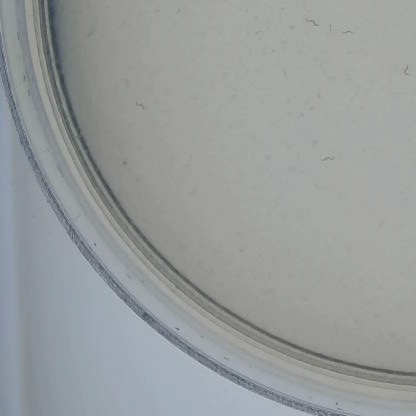worm: (303, 14, 320, 31), (399, 62, 412, 82), (129, 100, 150, 111), (120, 76, 140, 87), (321, 151, 336, 165), (341, 27, 359, 36), (172, 6, 183, 18), (328, 21, 335, 36)
